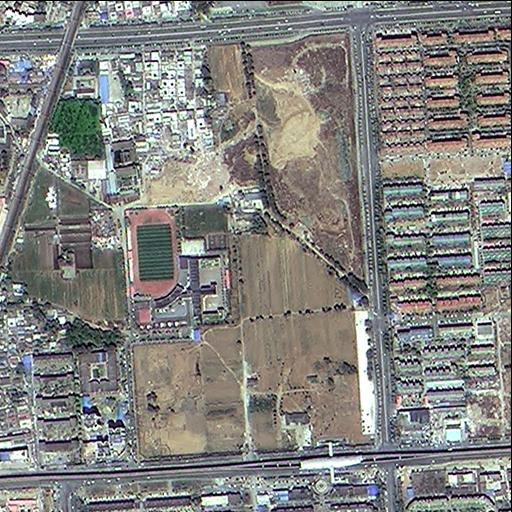school: (124, 200, 238, 342)
